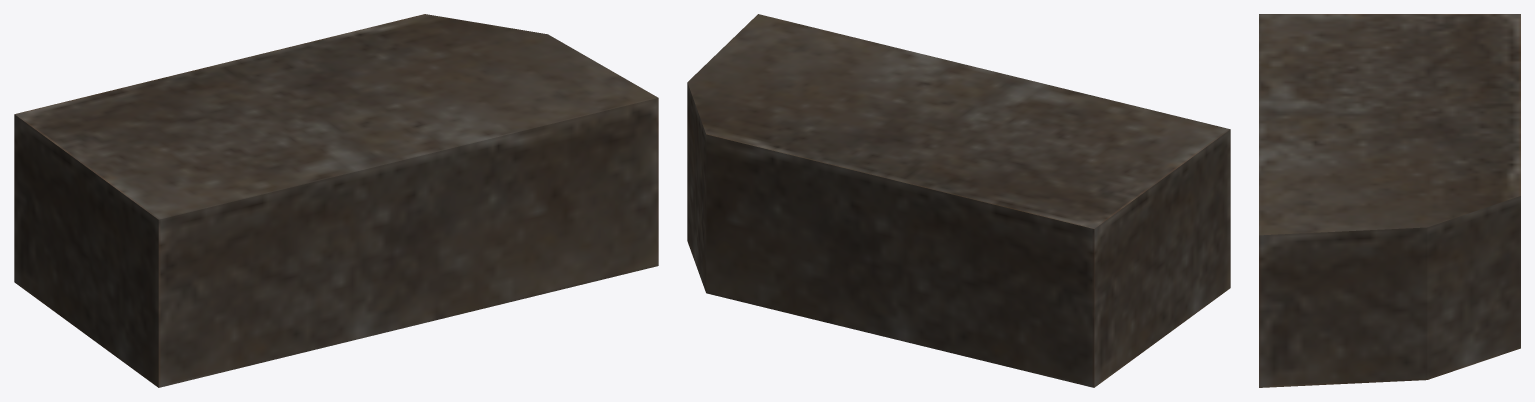
Rendered from brick_mx_3_0.dae.
3 renders of one model, left to right at view 1: azimuth 30°, elevation 25°; view 2: azimuth 150°, elevation 25°; view 3: azimuth 270°, elevation 25°, orthographic. The views are drawn at different scales.
Visible parts, largest first — view 1: brick_mx_3_0; view 2: brick_mx_3_0; view 3: brick_mx_3_0.
Part boxes in pixels (x1,y1,x2,y2): brick_mx_3_0: (14, 14, 658, 387); brick_mx_3_0: (687, 14, 1230, 387); brick_mx_3_0: (1259, 14, 1520, 387).
Size of the model in its own units: 0.28 by 0.14 by 0.09.
1 material, 1 textured.
